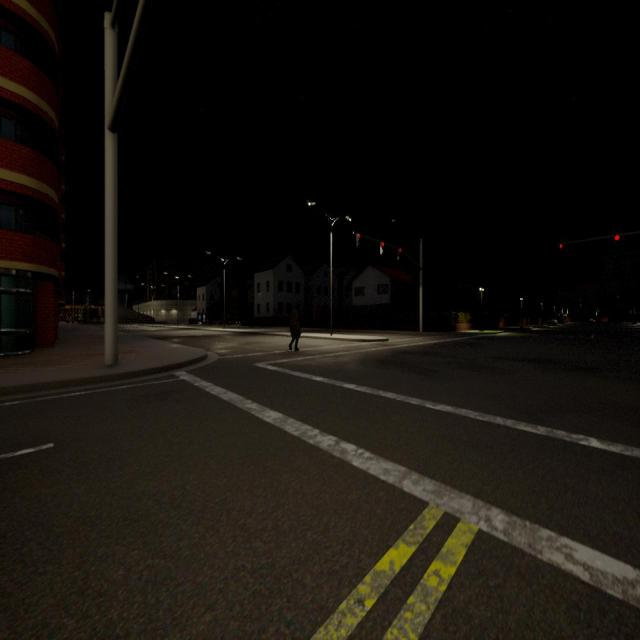Pedestrian: (289, 302, 301, 350)
traffic_light: (356, 234, 361, 246), (380, 242, 384, 254), (398, 247, 402, 259), (614, 234, 620, 240), (559, 243, 563, 249)
